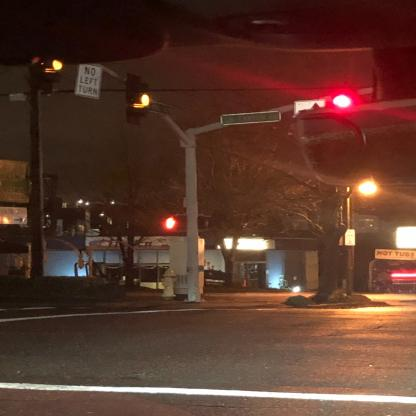Don-t Walk: (162, 215, 180, 230)
Traffic Signal: (128, 75, 152, 121), (35, 55, 63, 93)
